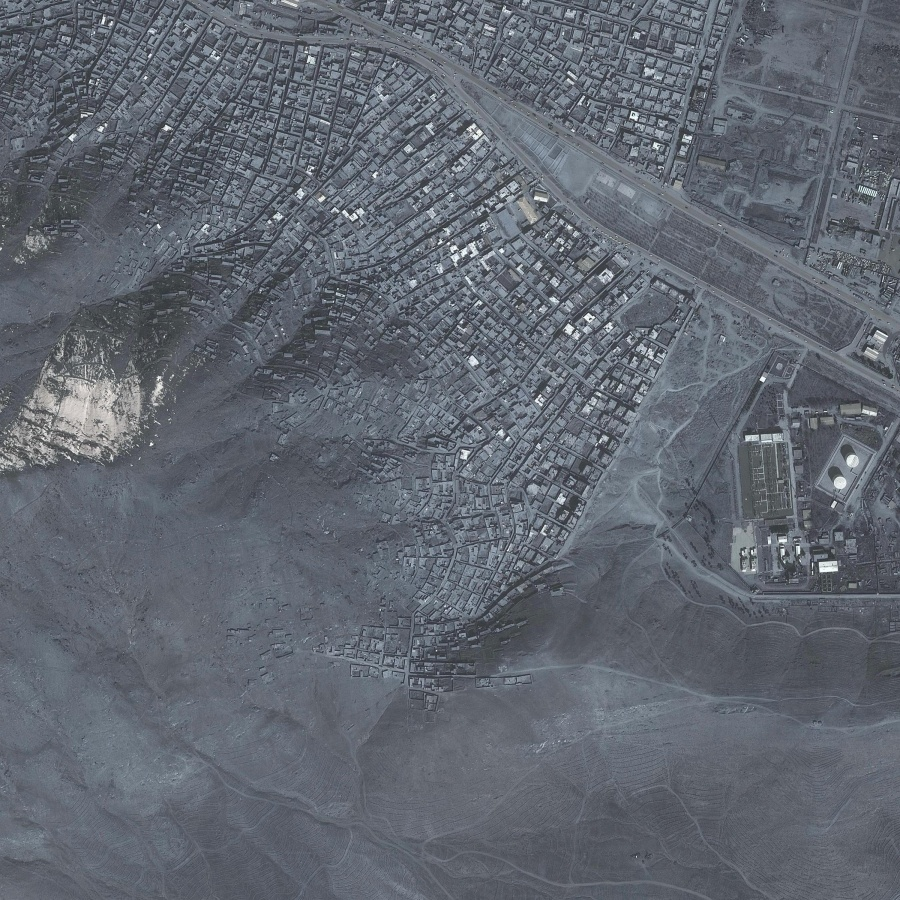PowerPlant: (740, 396, 883, 587)
